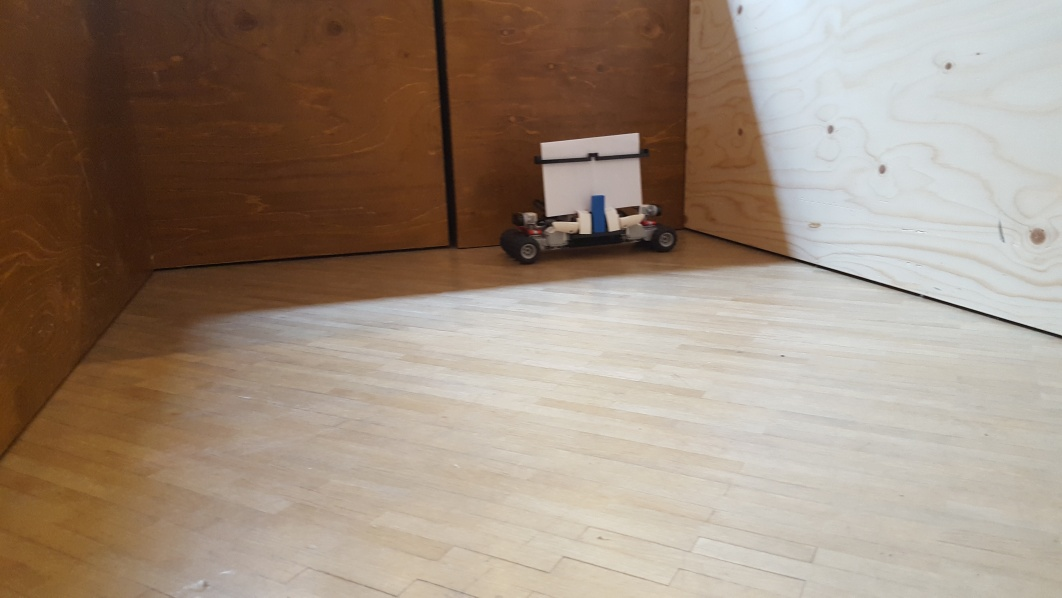car: (499, 132, 679, 264)
